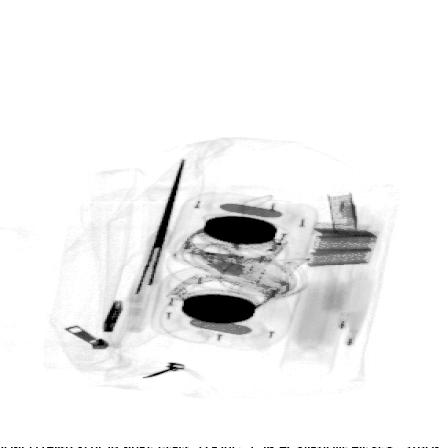Scissors: (113, 157, 182, 329)
